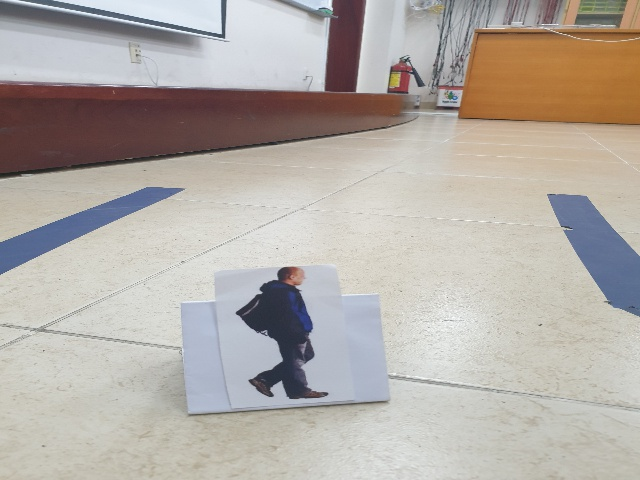Person: (236, 269, 333, 399)
